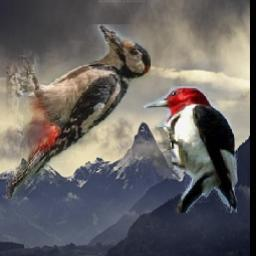Woodpecker: (6, 24, 151, 199), (142, 87, 238, 214)
